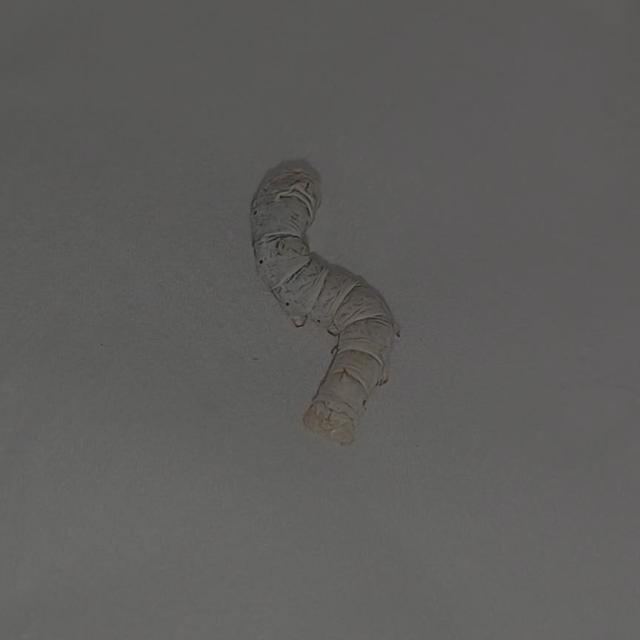Healthy: (208, 138, 431, 448)
